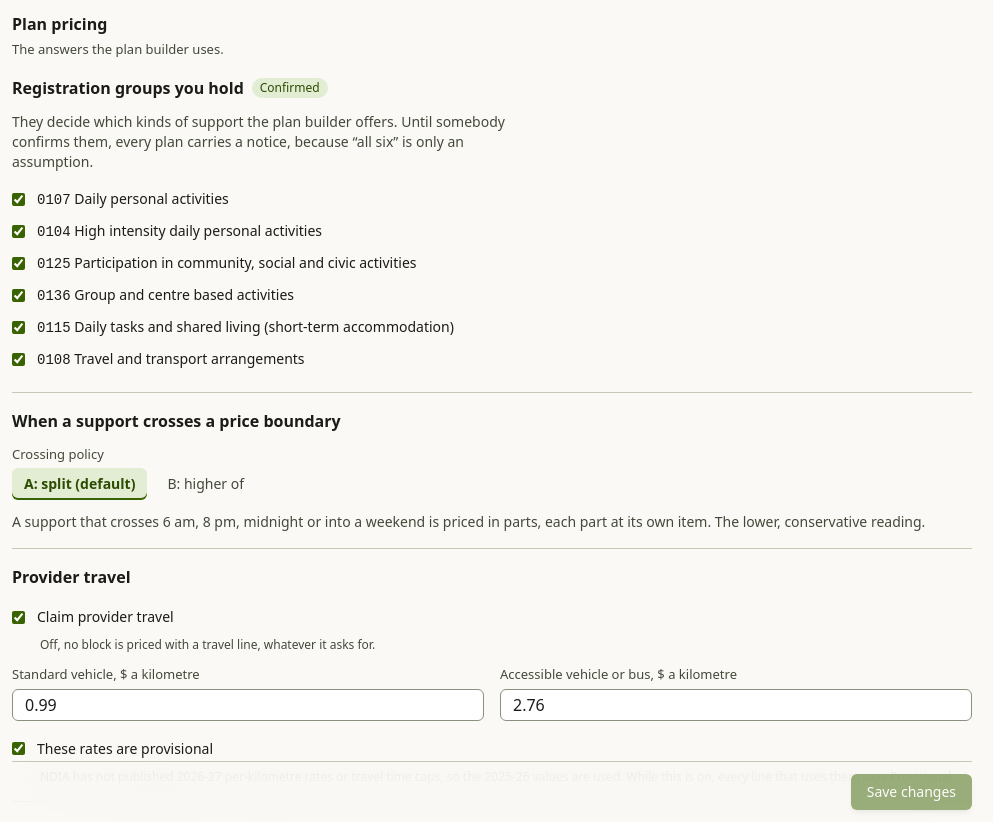
Plan pricing settings › shows the server's own words when a save is refused, and keeps what was entered
Click the radio button labelled "B: higher of": {"x": 206, "y": 484} [155,468,256,500]
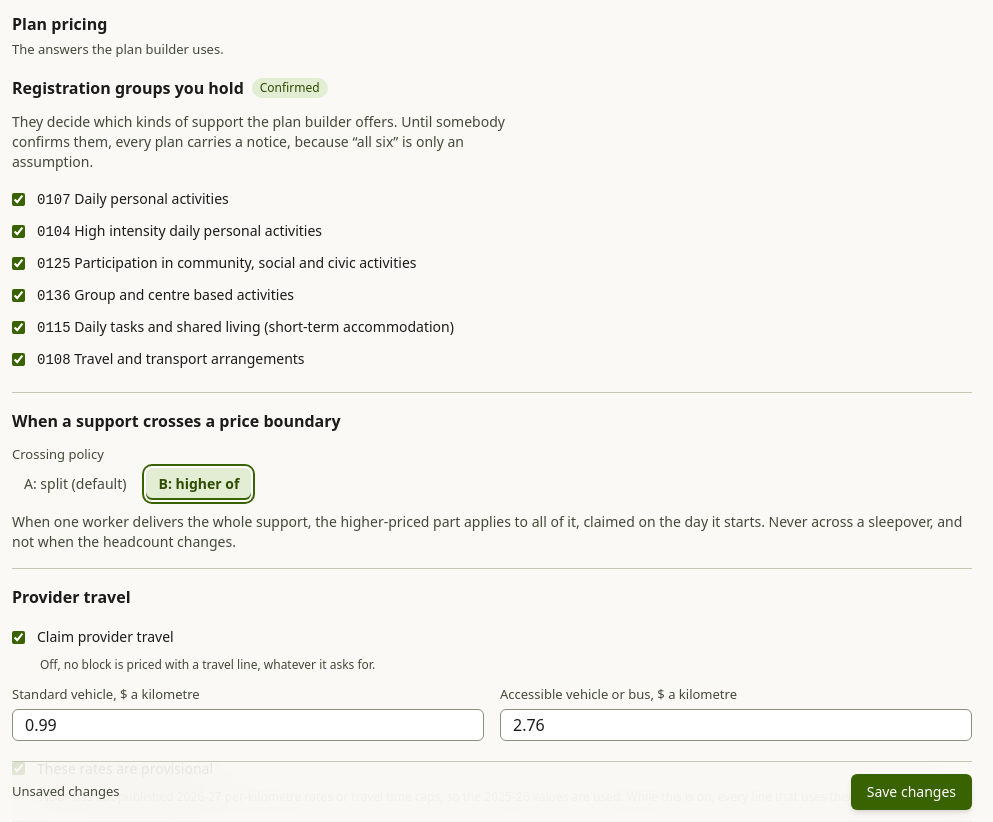
Click the button "Save changes": {"x": 911, "y": 792} [851,774,972,810]
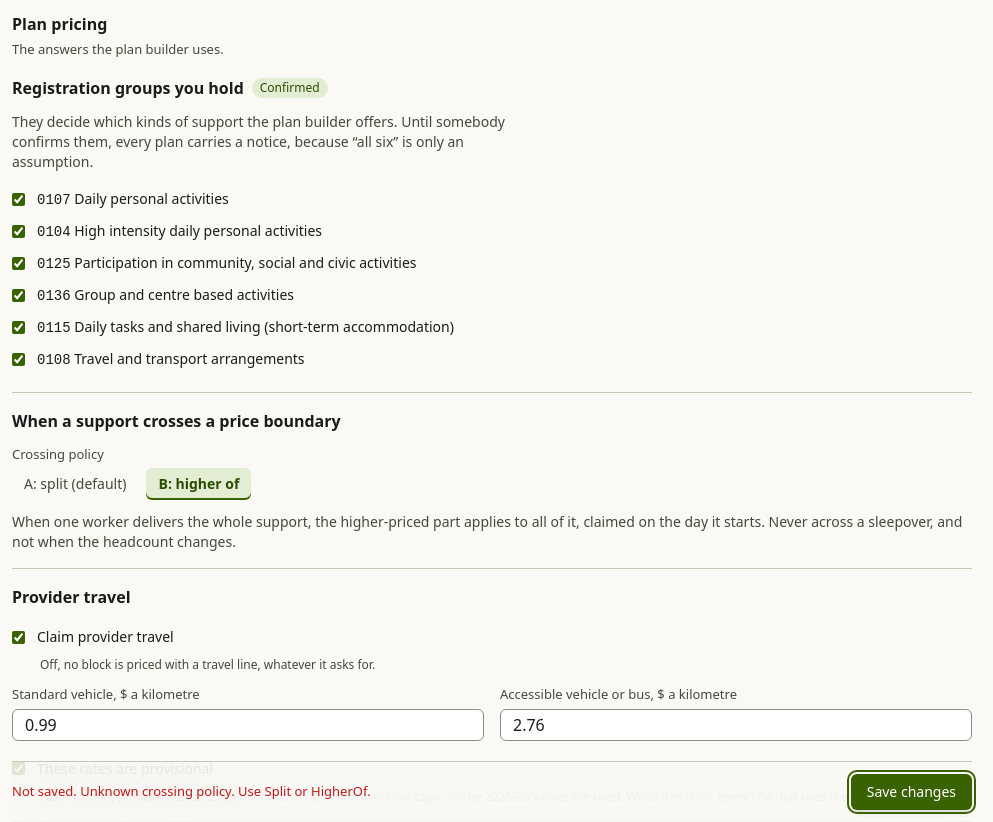
Expected: the radio button labelled "B: higher of" is checked, [146,468,251,500]
Expected: the button "Save changes" is enabled, [851,774,972,810]
Expected: the message reads "Not saved. Unknown crossing policy. Use Split or HigherOf.", [12,782,371,800]
